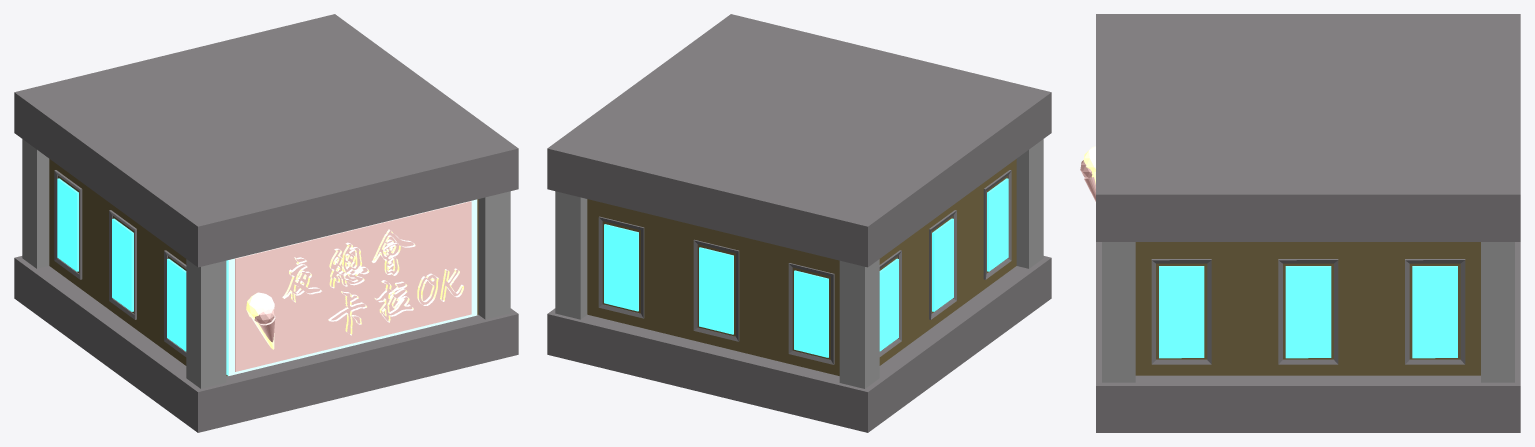
3 renders of one model, left to right at view 1: azimuth 30°, elevation 25°; view 2: azimuth 150°, elevation 25°; view 3: azimuth 270°, elevation 25°, orthographic. The views are drawn at different scales.
Visible parts, largest first — view 1: Cube.014, Cube.013, Cube.004, Cube.002, Cube.016, Cube.015, Text, Cube.017, Cube.012, Cube.005, Cube.010, Cube.011 (+1 smaller); view 2: Cube.014, Cube.002, Cube.013, Cube.017, Cube.018, Cube, Cube.001, Cube.003, Cube.016, Cube.011, Cube.010, Cube.012; view 3: Cube.014, Cube.002, Cube.013, Cube.008, Cube.009, Cube.007, Cube.015, Cube.018.
Part boxes in pixels (bbox=[...]): Cube.014: bbox=[14, 14, 518, 267]; Cube.013: bbox=[14, 256, 518, 432]; Cube.004: bbox=[235, 201, 471, 371]; Cube.002: bbox=[49, 159, 478, 375]; Cube.016: bbox=[186, 259, 226, 388]; Cube.015: bbox=[478, 191, 510, 319]; Text: bbox=[282, 229, 463, 335]; Cube.017: bbox=[22, 139, 49, 268]; Cube.012: bbox=[54, 170, 82, 279]; Cube.005: bbox=[226, 199, 477, 375]; Cube.010: bbox=[109, 210, 136, 319]; Cube.011: bbox=[164, 250, 186, 356]; Cube.014: bbox=[547, 14, 1051, 267]; Cube.002: bbox=[587, 159, 1016, 375]; Cube.013: bbox=[547, 256, 1051, 432]; Cube.017: bbox=[839, 259, 879, 388]; Cube.018: bbox=[555, 191, 587, 319]; Cube: bbox=[598, 216, 644, 318]; Cube.001: bbox=[788, 263, 834, 364]; Cube.003: bbox=[693, 239, 739, 341]; Cube.016: bbox=[1016, 139, 1043, 268]; Cube.011: bbox=[983, 170, 1011, 279]; Cube.010: bbox=[929, 210, 956, 319]; Cube.012: bbox=[879, 250, 901, 356]; Cube.014: bbox=[1096, 14, 1520, 241]; Cube.002: bbox=[1135, 242, 1480, 375]; Cube.013: bbox=[1096, 242, 1520, 432]; Cube.008: bbox=[1405, 259, 1465, 364]; Cube.009: bbox=[1278, 259, 1338, 364]; Cube.007: bbox=[1151, 259, 1211, 364]; Cube.015: bbox=[1102, 242, 1135, 382]; Cube.018: bbox=[1481, 242, 1514, 382].
Size of the model in its own units: 13.28 by 8.16 by 13.66.
